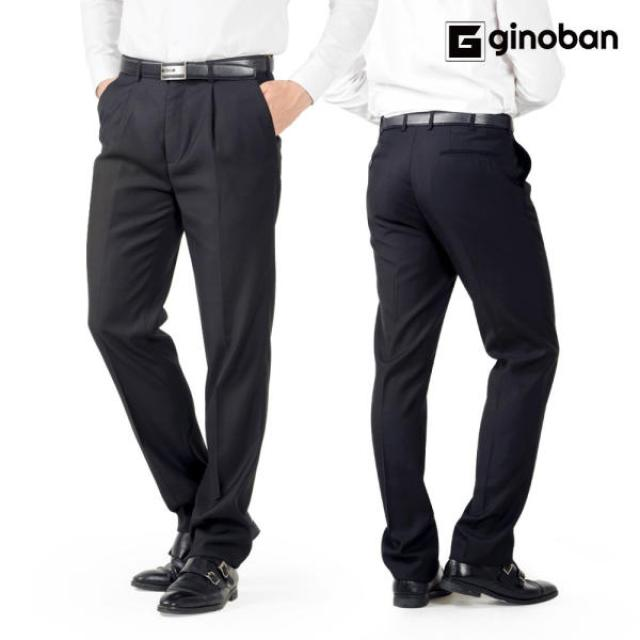pants: (86, 51, 284, 567), (359, 113, 561, 570)
